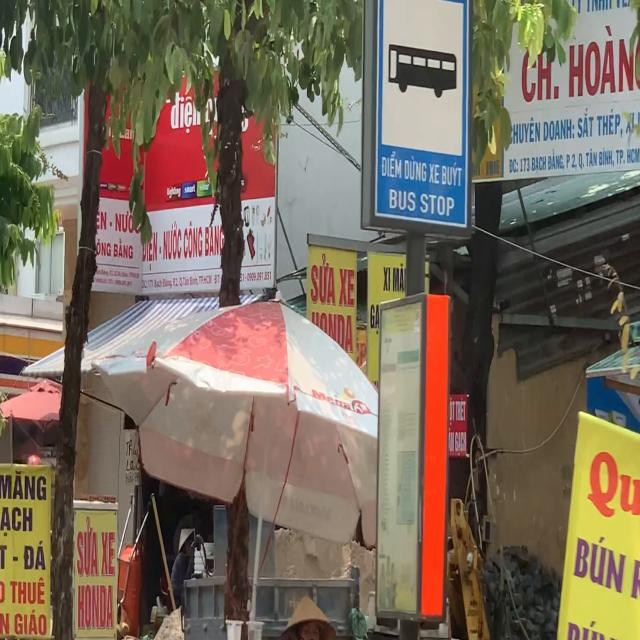Hieu lenh: (374, 0, 471, 230)
